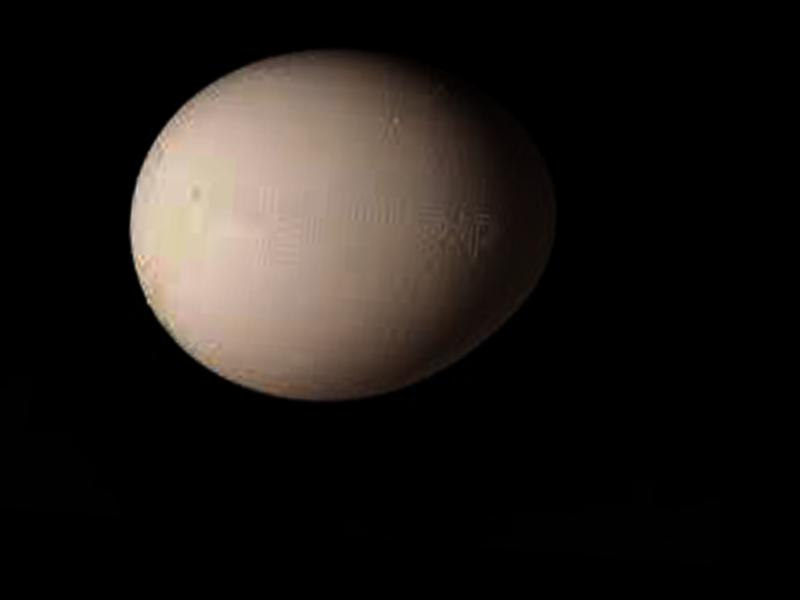Eggs: (112, 34, 567, 418)
